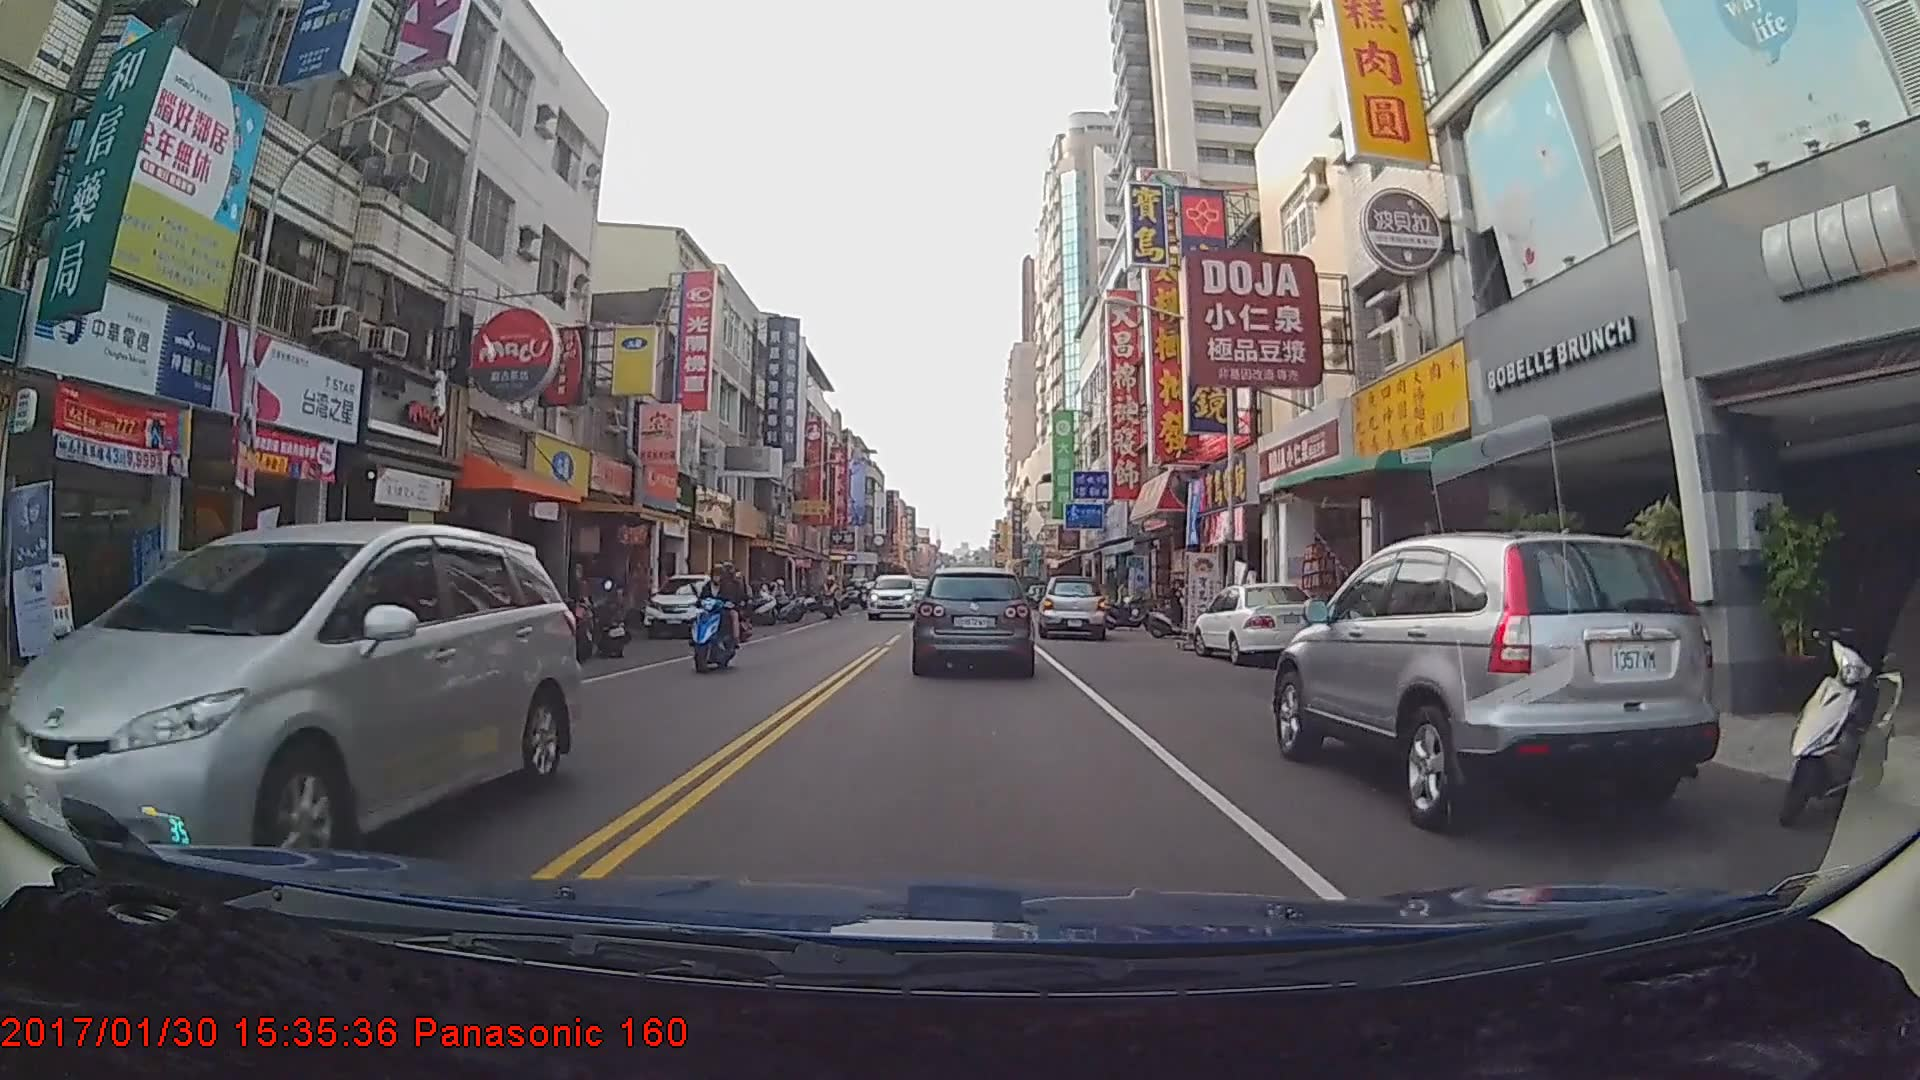rider: (682, 561, 738, 678), (1148, 580, 1204, 641)
vehicle: (0, 520, 580, 897), (1271, 529, 1715, 832), (912, 566, 1033, 674), (1189, 582, 1326, 666), (641, 572, 747, 638), (1035, 576, 1108, 640), (866, 574, 920, 620)
